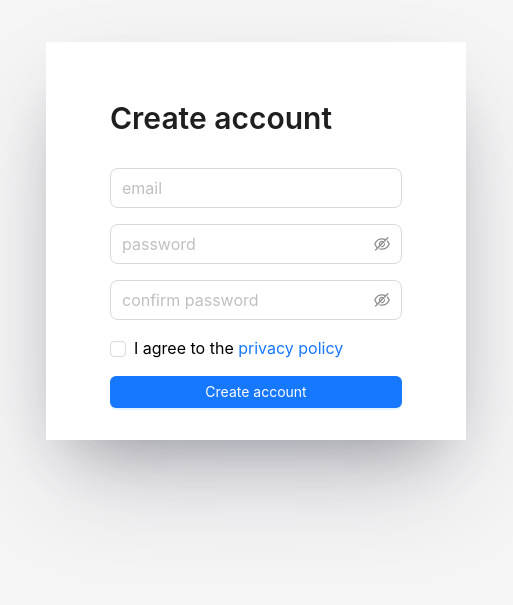
Validation errors unit tests › Show empty email error message
This screenshot has width=513, height=605.
Check: the text "Email is required" is not shown
Click the button "Create account" at (256, 392), box top-left (110, 376), bottom-right (402, 408)
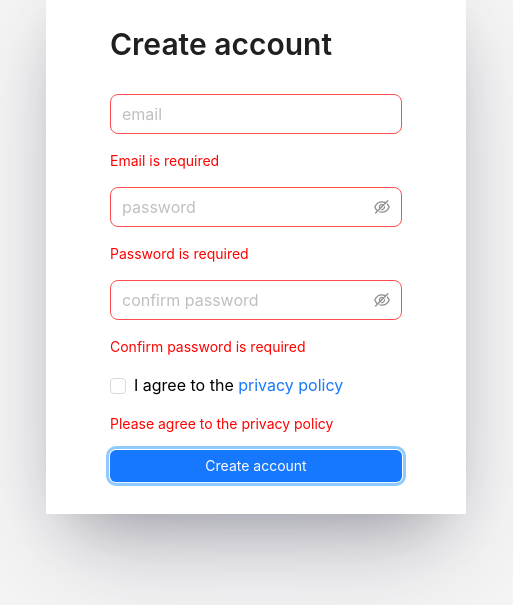
Check: the text "Email is required" is shown, box top-left (110, 152), bottom-right (219, 169)
